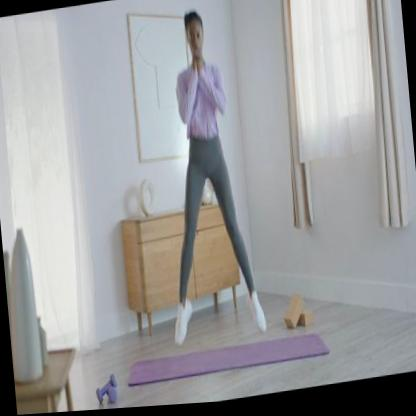Curtains: (282, 0, 416, 257)
Sideboard: (123, 207, 242, 339)
